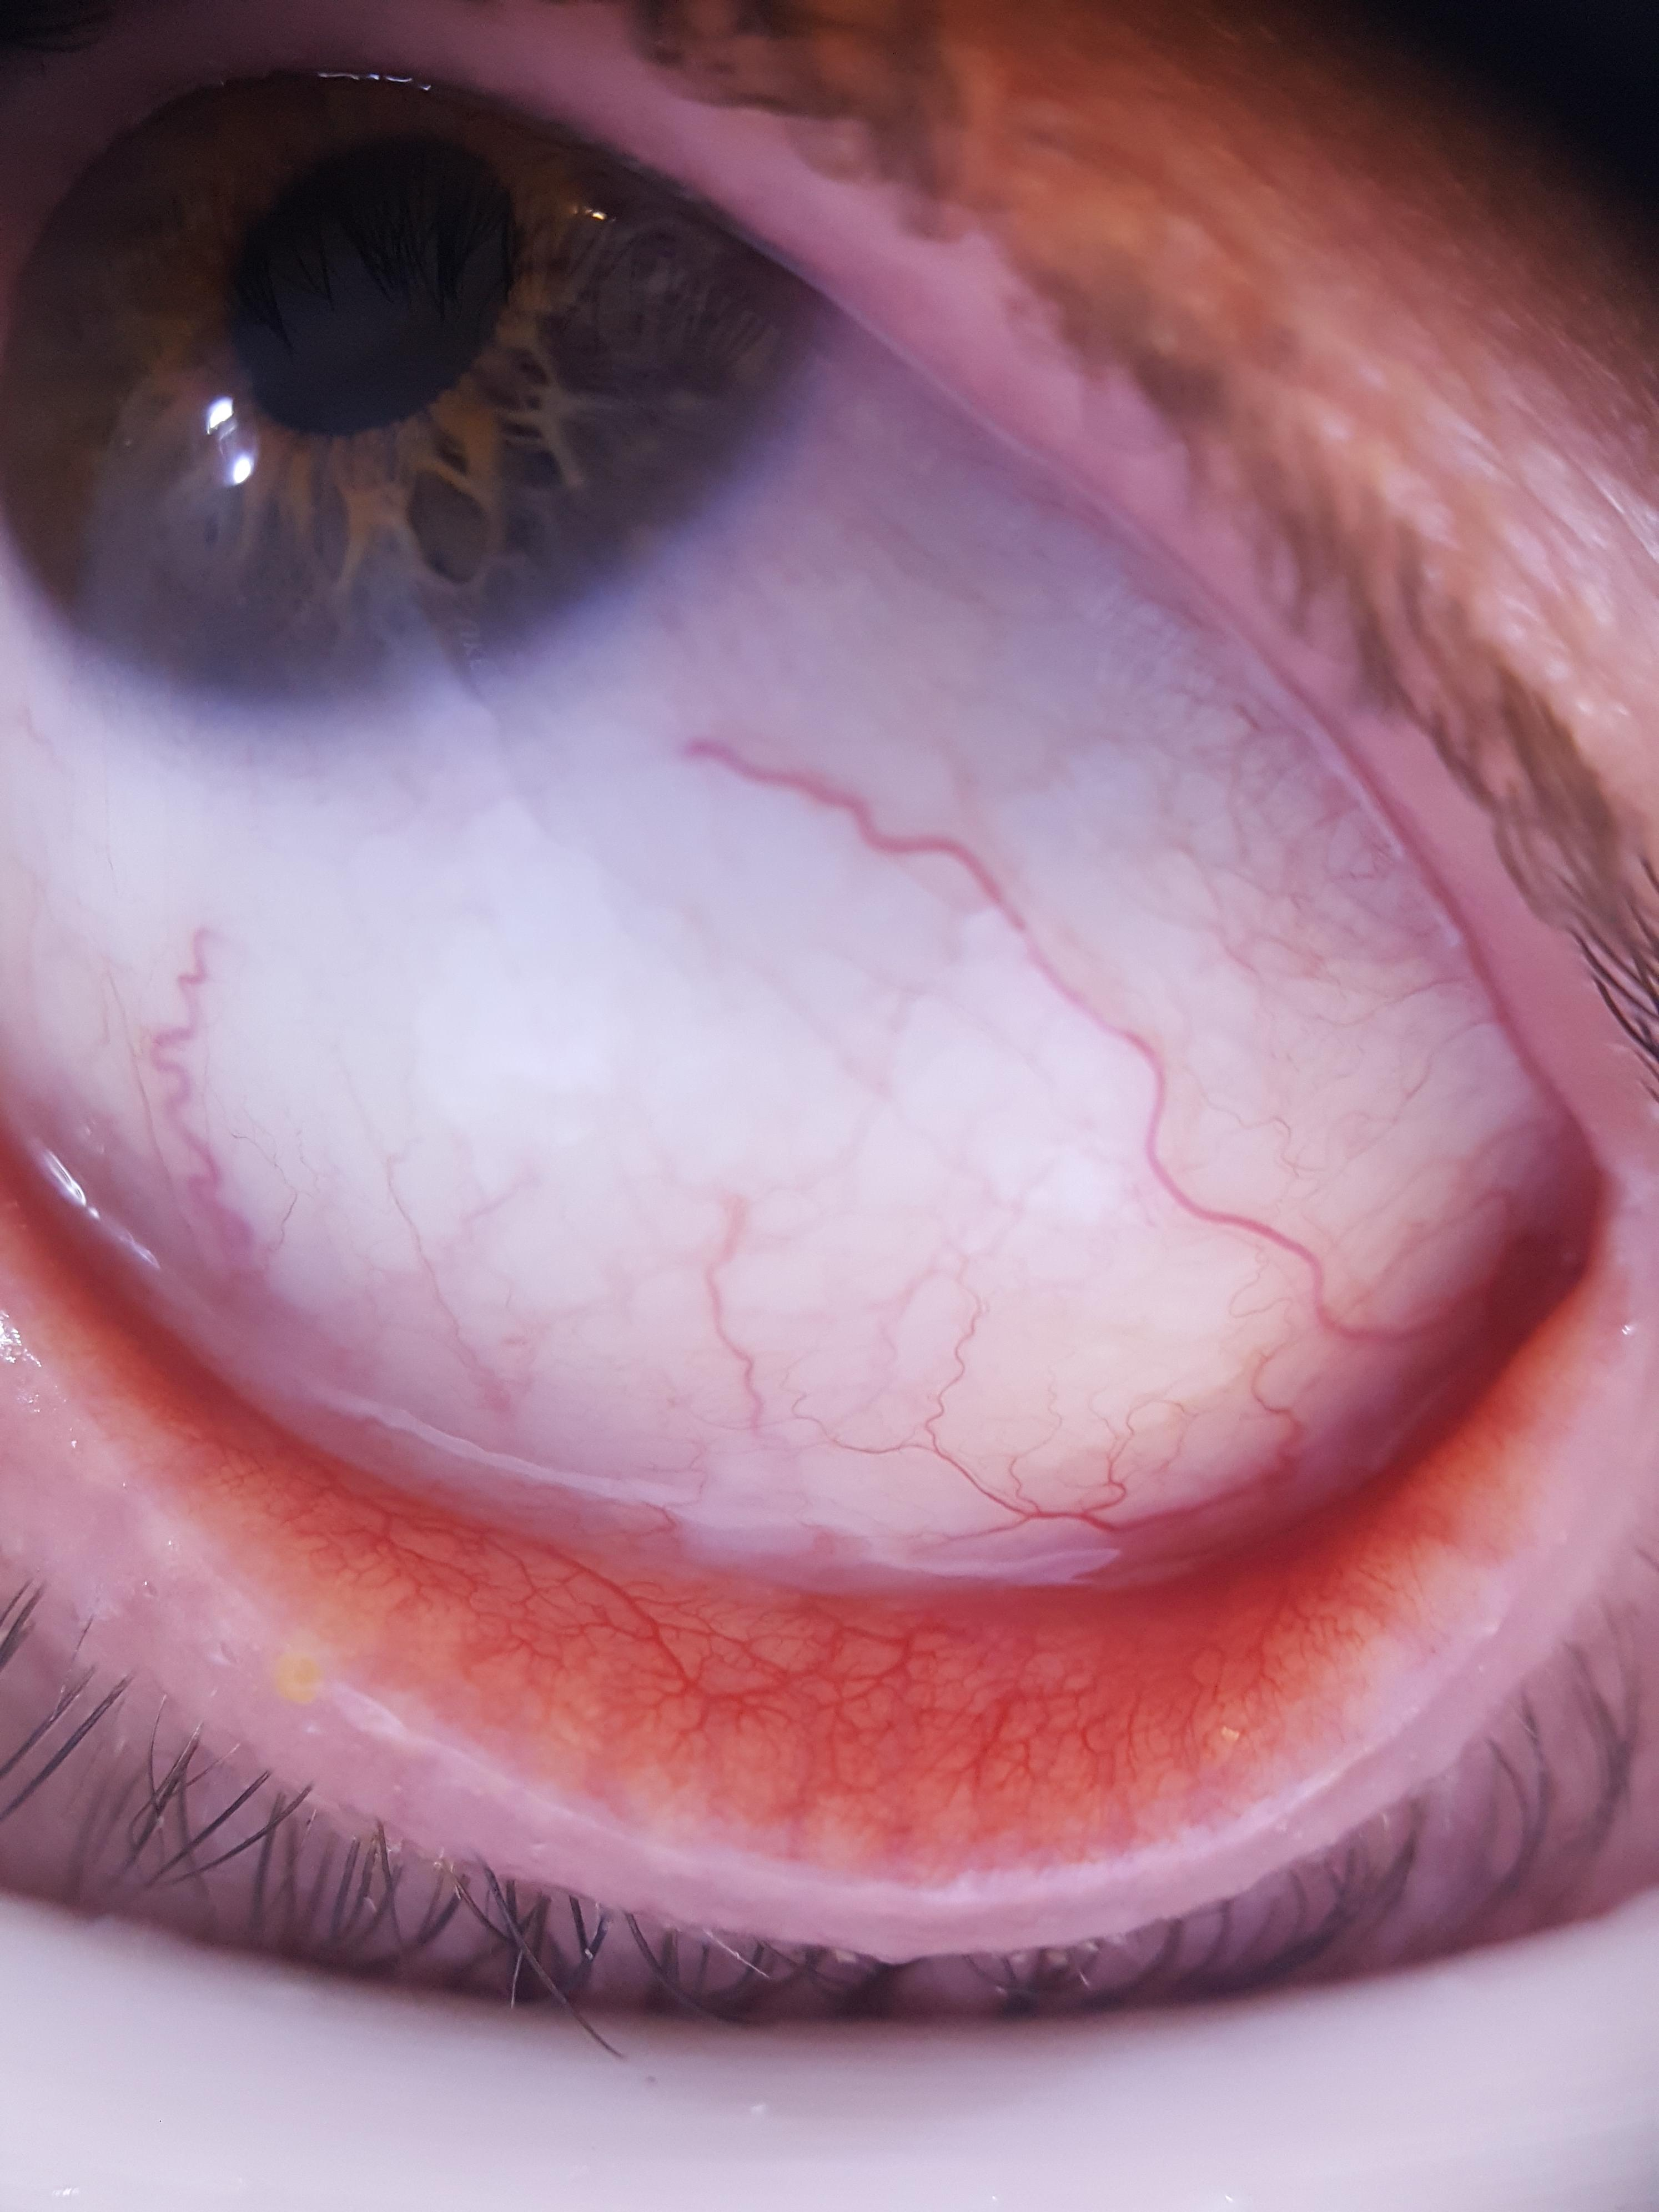palpebral: (7, 1172, 1565, 1850)
